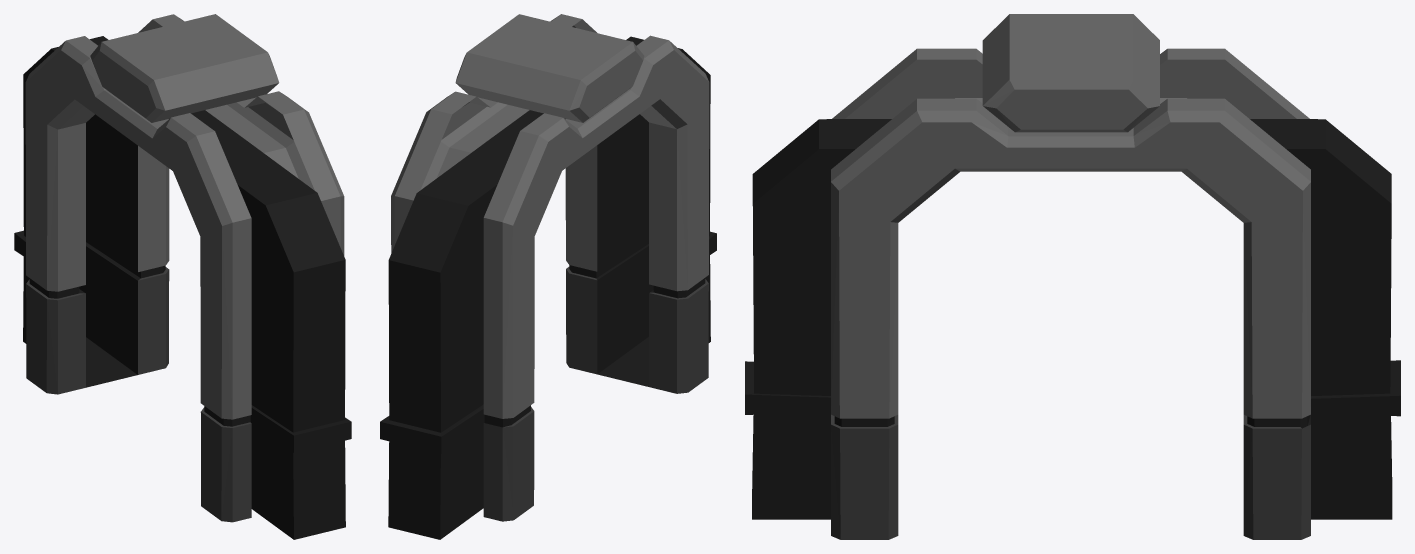
The model's file is env_test_interior_door_A_rim.FBX.
3 renders of one model, left to right at view 1: azimuth 30°, elevation 25°; view 2: azimuth 150°, elevation 25°; view 3: azimuth 270°, elevation 25°, orthographic. The views are drawn at different scales.
Visible parts, largest first — view 1: door_A_rim; view 2: door_A_rim; view 3: door_A_rim.
Boxes of the visible parts, box(x1,y1,x2,y2) form: door_A_rim: box(14, 14, 351, 539); door_A_rim: box(380, 14, 716, 539); door_A_rim: box(745, 14, 1400, 539).
Bounding box in the file's own units: 48.77 × 148 × 192.
